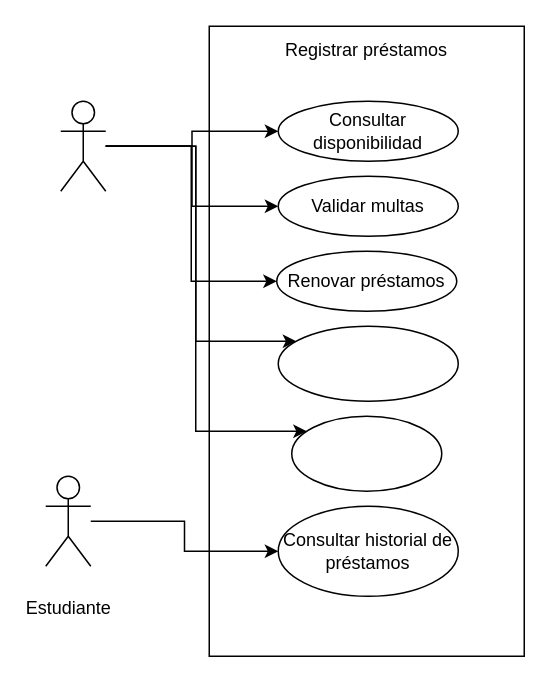
Image size: 551x683. Some labels were removed from this diagram. The shapes that lost their labels are listed below. From the top down, each one's box as (x1, y1, x2, y2) in pixels, then its label:
(59, 100, 106, 191): Biblioterio
(277, 325, 458, 401): Registrar devolución
(290, 415, 442, 491): Bloquear préstamo por multas
